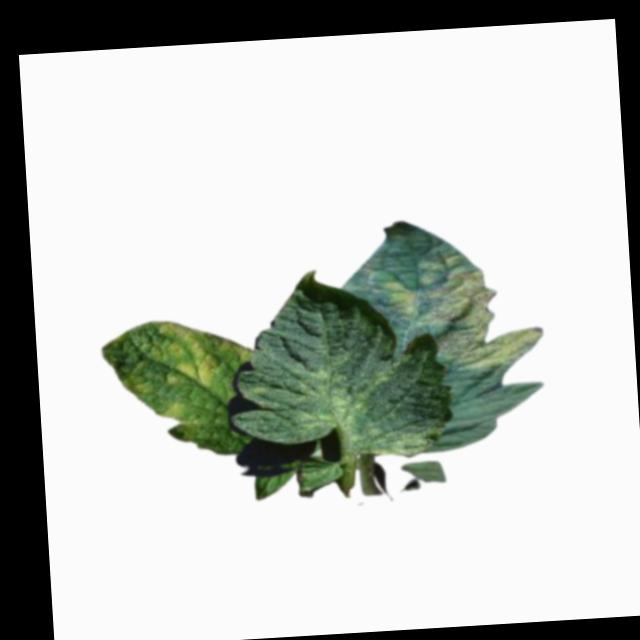Leaf_Mold: (378, 248, 545, 376), (117, 318, 250, 422)
